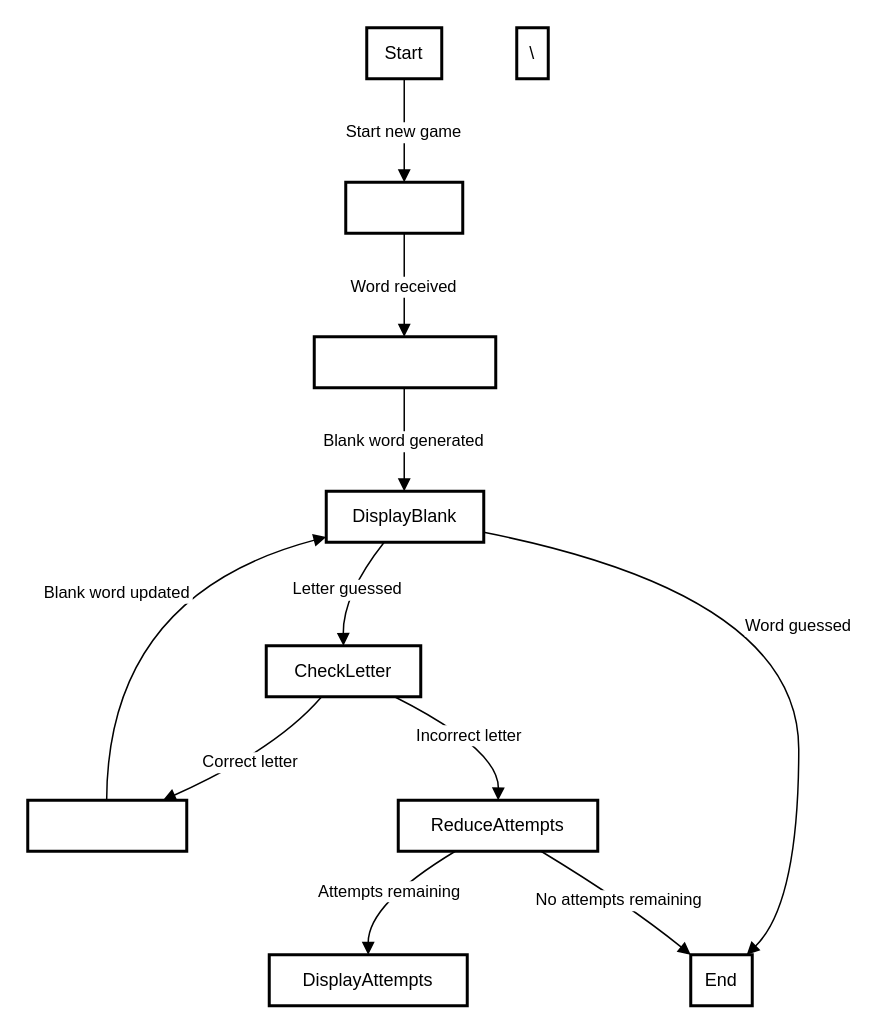
The diagram is 878 pixels wide and 1032 high, and some of its shapes have lost their labels. Here are the shapes that lost their labels. From the top down, the centre of each, then its label:
(404,207): GetWord
(404,361): GenerateBlank
(107,825): UpdateBlank
